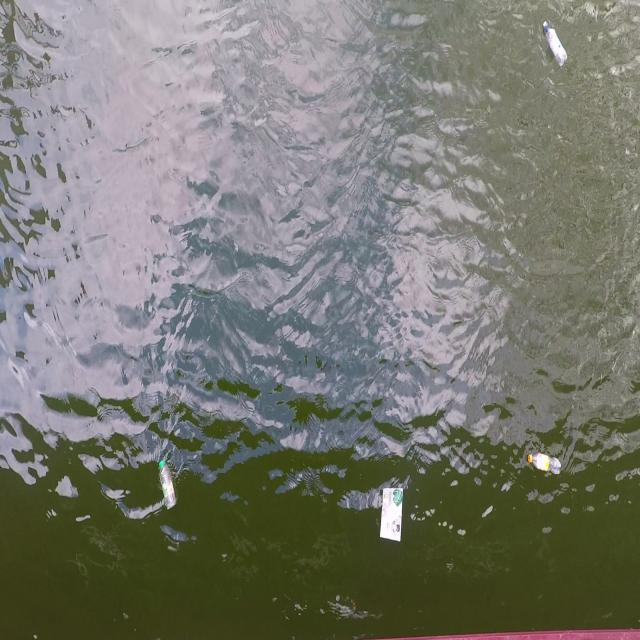Bouteille plastique: (540, 15, 570, 72), (153, 454, 179, 512), (524, 443, 562, 482)
